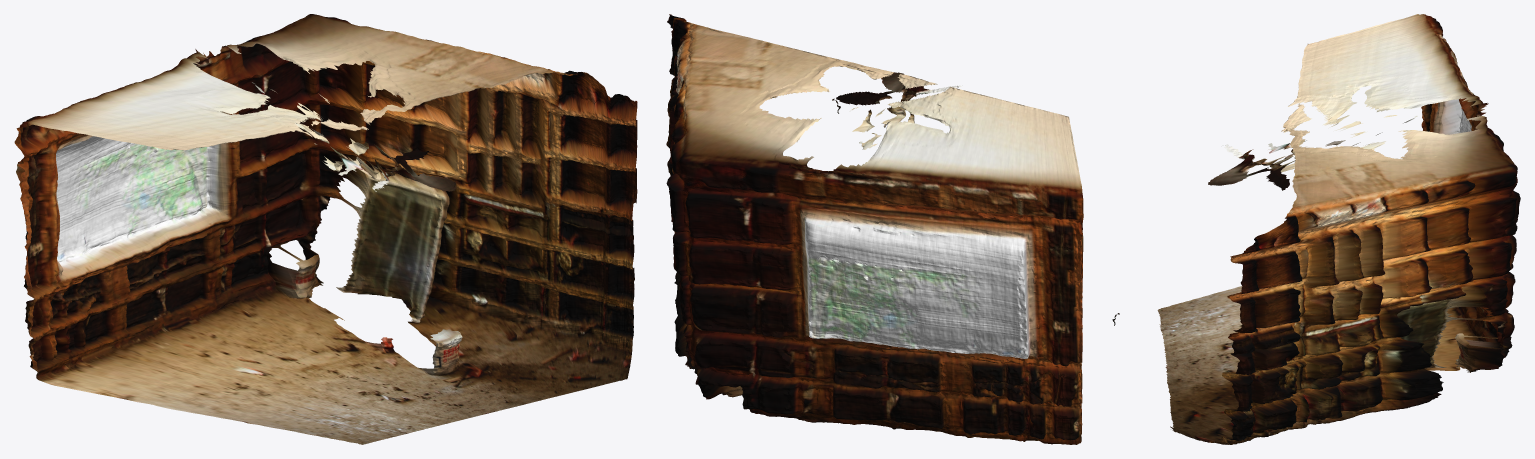
File: fema-belfry-ky.glb
3 views of the same model, side by side, from view 1: azimuth 30°, elevation 25°; view 2: azimuth 150°, elevation 25°; view 3: azimuth 270°, elevation 25° (orthographic). The views are drawn at different scales.
Visible parts, largest first — view 1: room; view 2: room; view 3: room.
Boxes of the visible parts, x1,y1,x2,y2 form: room: (14,14,637,444); room: (666,14,1083,444); room: (1112,14,1520,444).
Bounding box in the file's own units: 6.07 × 3.03 × 4.82.
1 material, 1 textured.
